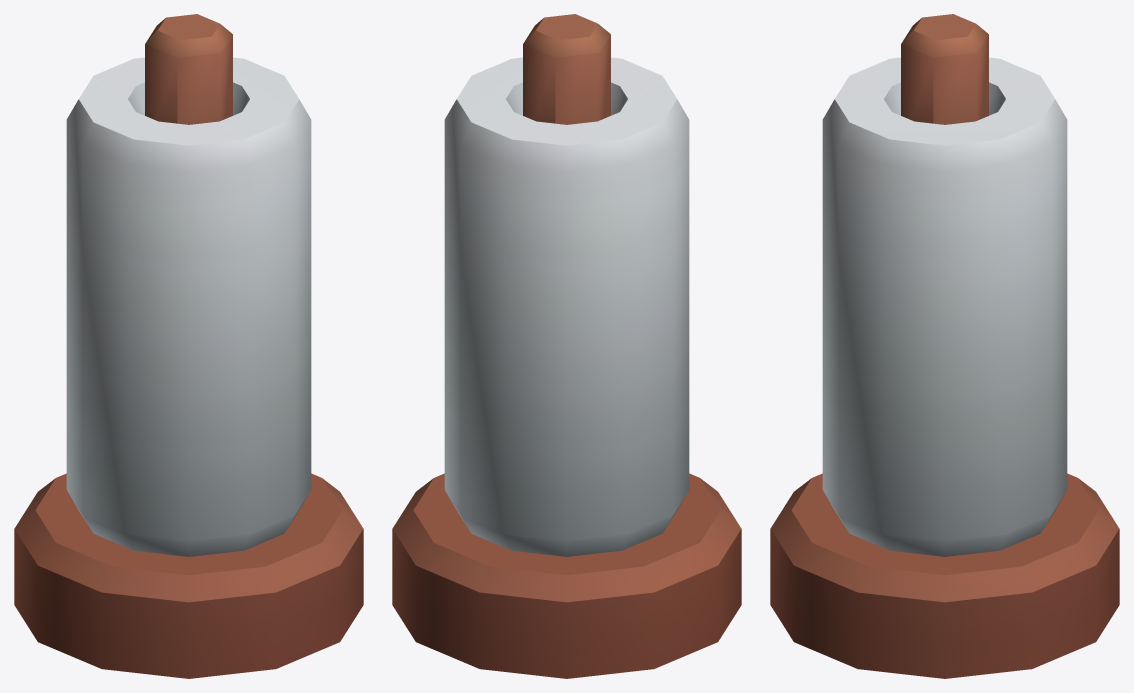
Rendered from kkr.papertowel.glb.
3 renders of one model, left to right at view 1: azimuth 30°, elevation 25°; view 2: azimuth 150°, elevation 25°; view 3: azimuth 270°, elevation 25°, orthographic.
Parts seen in each view (by area): view 1: papertowel; view 2: papertowel; view 3: papertowel.
Boxes of the visible parts, x1,y1,x2,y2 form: papertowel: (14, 14, 363, 678); papertowel: (392, 14, 741, 678); papertowel: (770, 14, 1119, 678).
Bounding box in the file's own units: 0.1378 × 0.2519 × 0.1378.
Materials: 1 (1 with a texture image).
